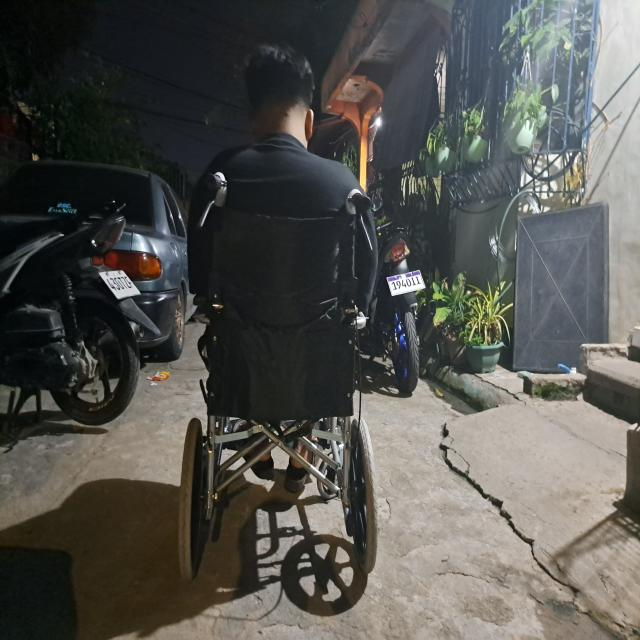wheelchairs: (167, 172, 401, 590)
